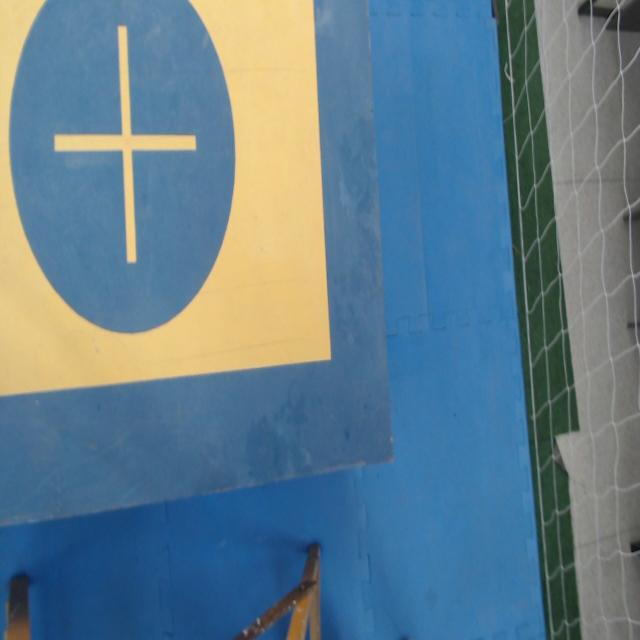base_inicio: (0, 0, 332, 397)
